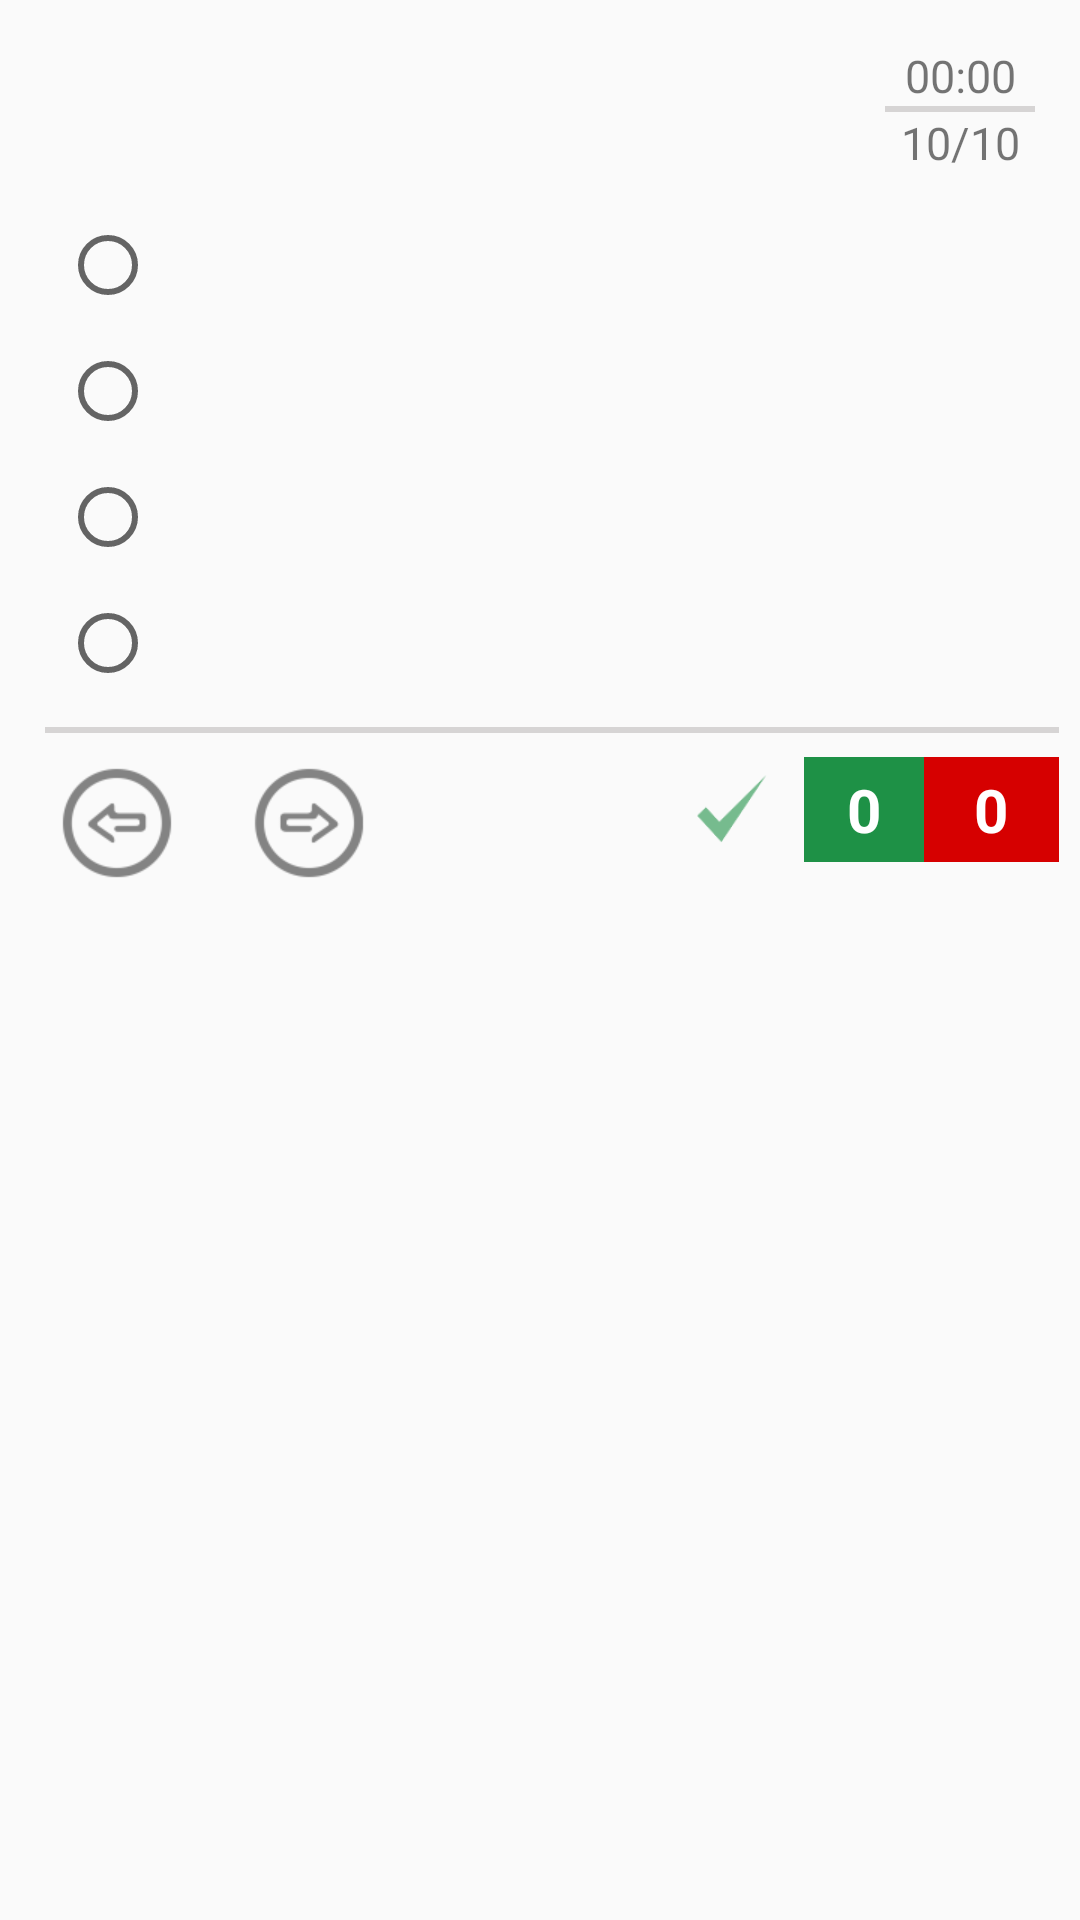

Screen size 1080 x 1920. Icon name, then its center in pixels as point (x, y):
next: point (309, 823)
prew: point (117, 823)
tick: point (731, 809)
